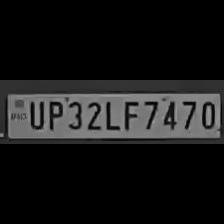0: (198, 98, 216, 130)
2: (85, 98, 102, 132)
3: (64, 98, 82, 130)
4: (158, 98, 178, 130)
7: (178, 98, 196, 130), (140, 98, 156, 130)
F: (121, 98, 139, 130)
L: (102, 98, 118, 132)
P: (44, 98, 62, 130)
U: (25, 98, 43, 130)
